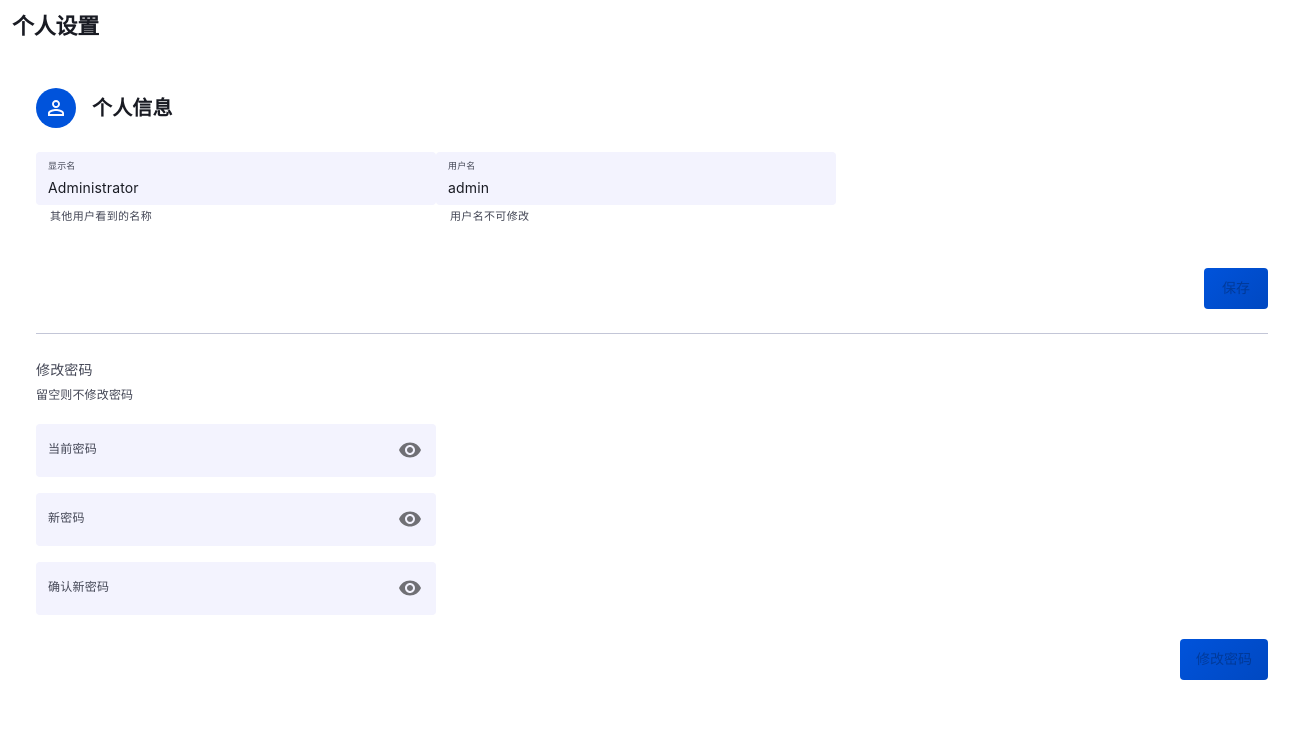
Settings › shows password mismatch error
Type "oldpass" into the password field labelled "当前密码".
click(210, 450); type("oldpass")  # box [36,424,385,477]
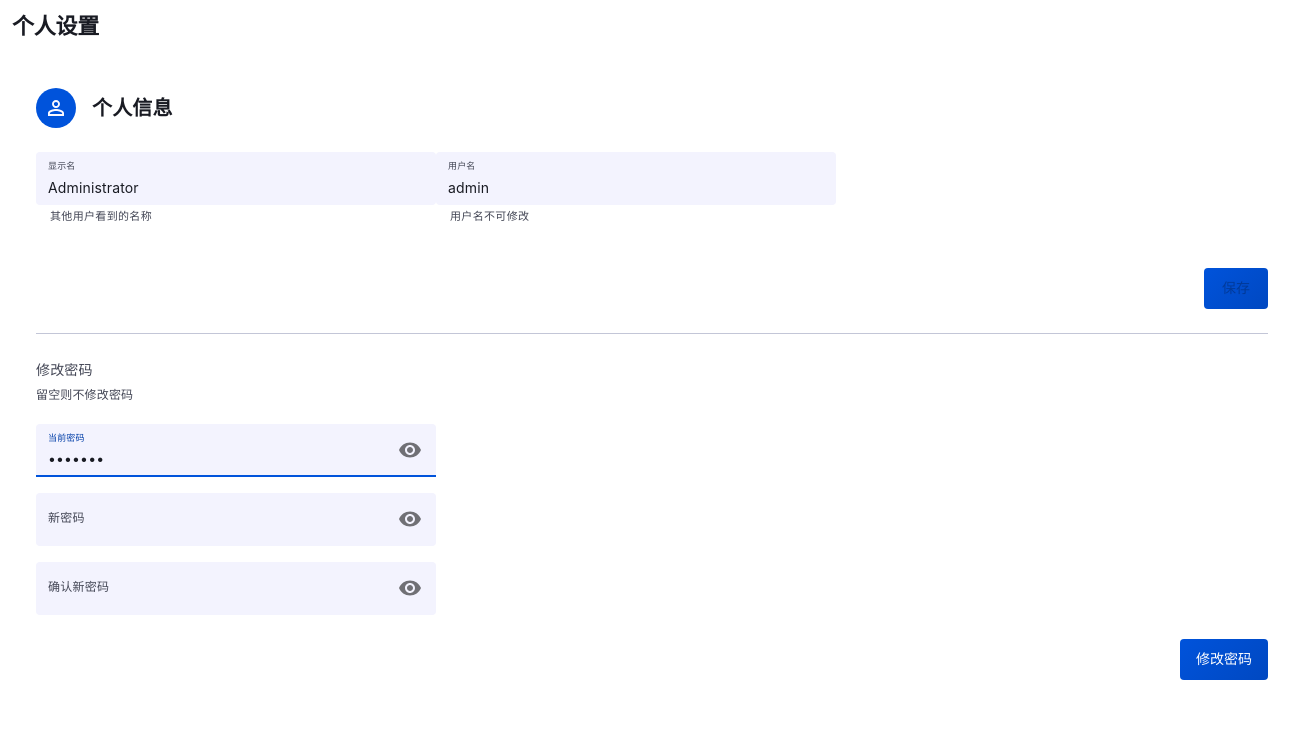
Type "NewPass123" into the password field labelled "新密码".
click(210, 519); type("NewPass123")  # box [36,493,385,546]
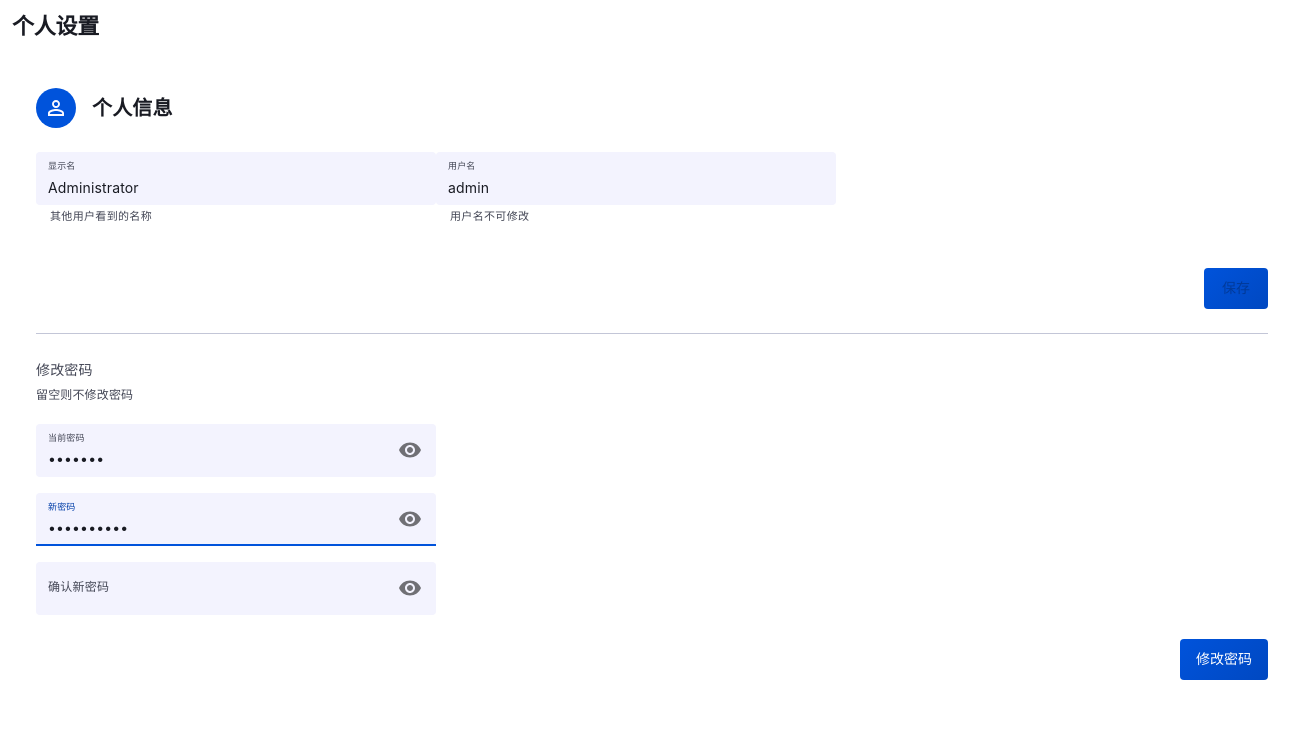
Type "Different1" into the password field labelled "确认新密码".
click(210, 588); type("Different1")  # box [36,562,385,615]
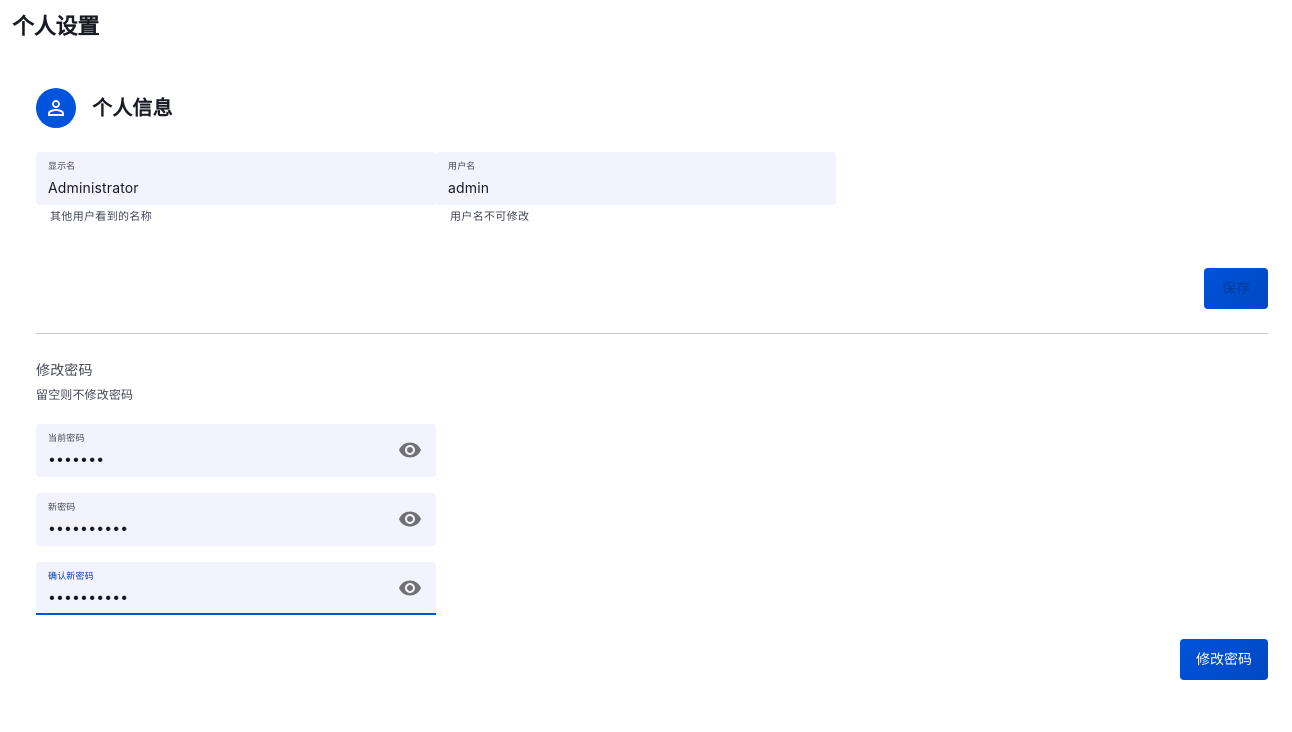
Click the button "修改密码".
click(1224, 659)  # box [1180,639,1268,680]
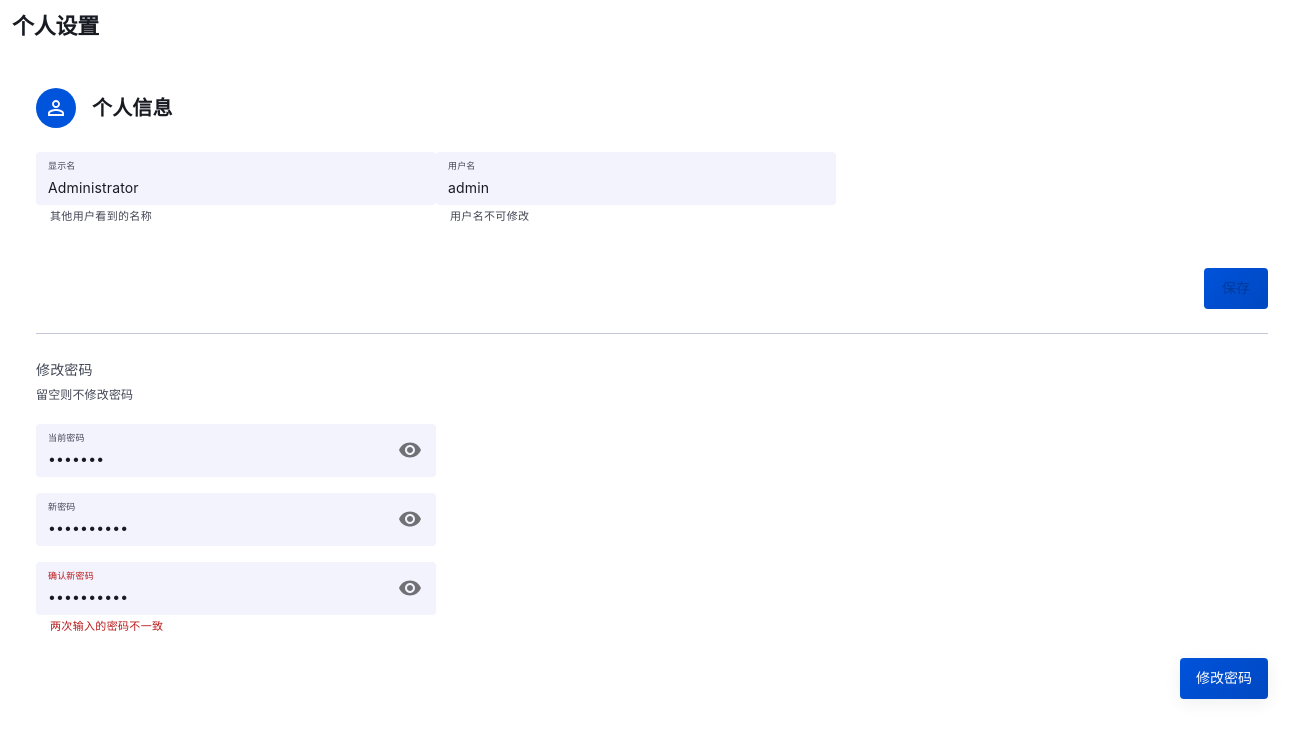
Now the text "两次输入的密码不一致" is shown, box [50,619,163,633]
